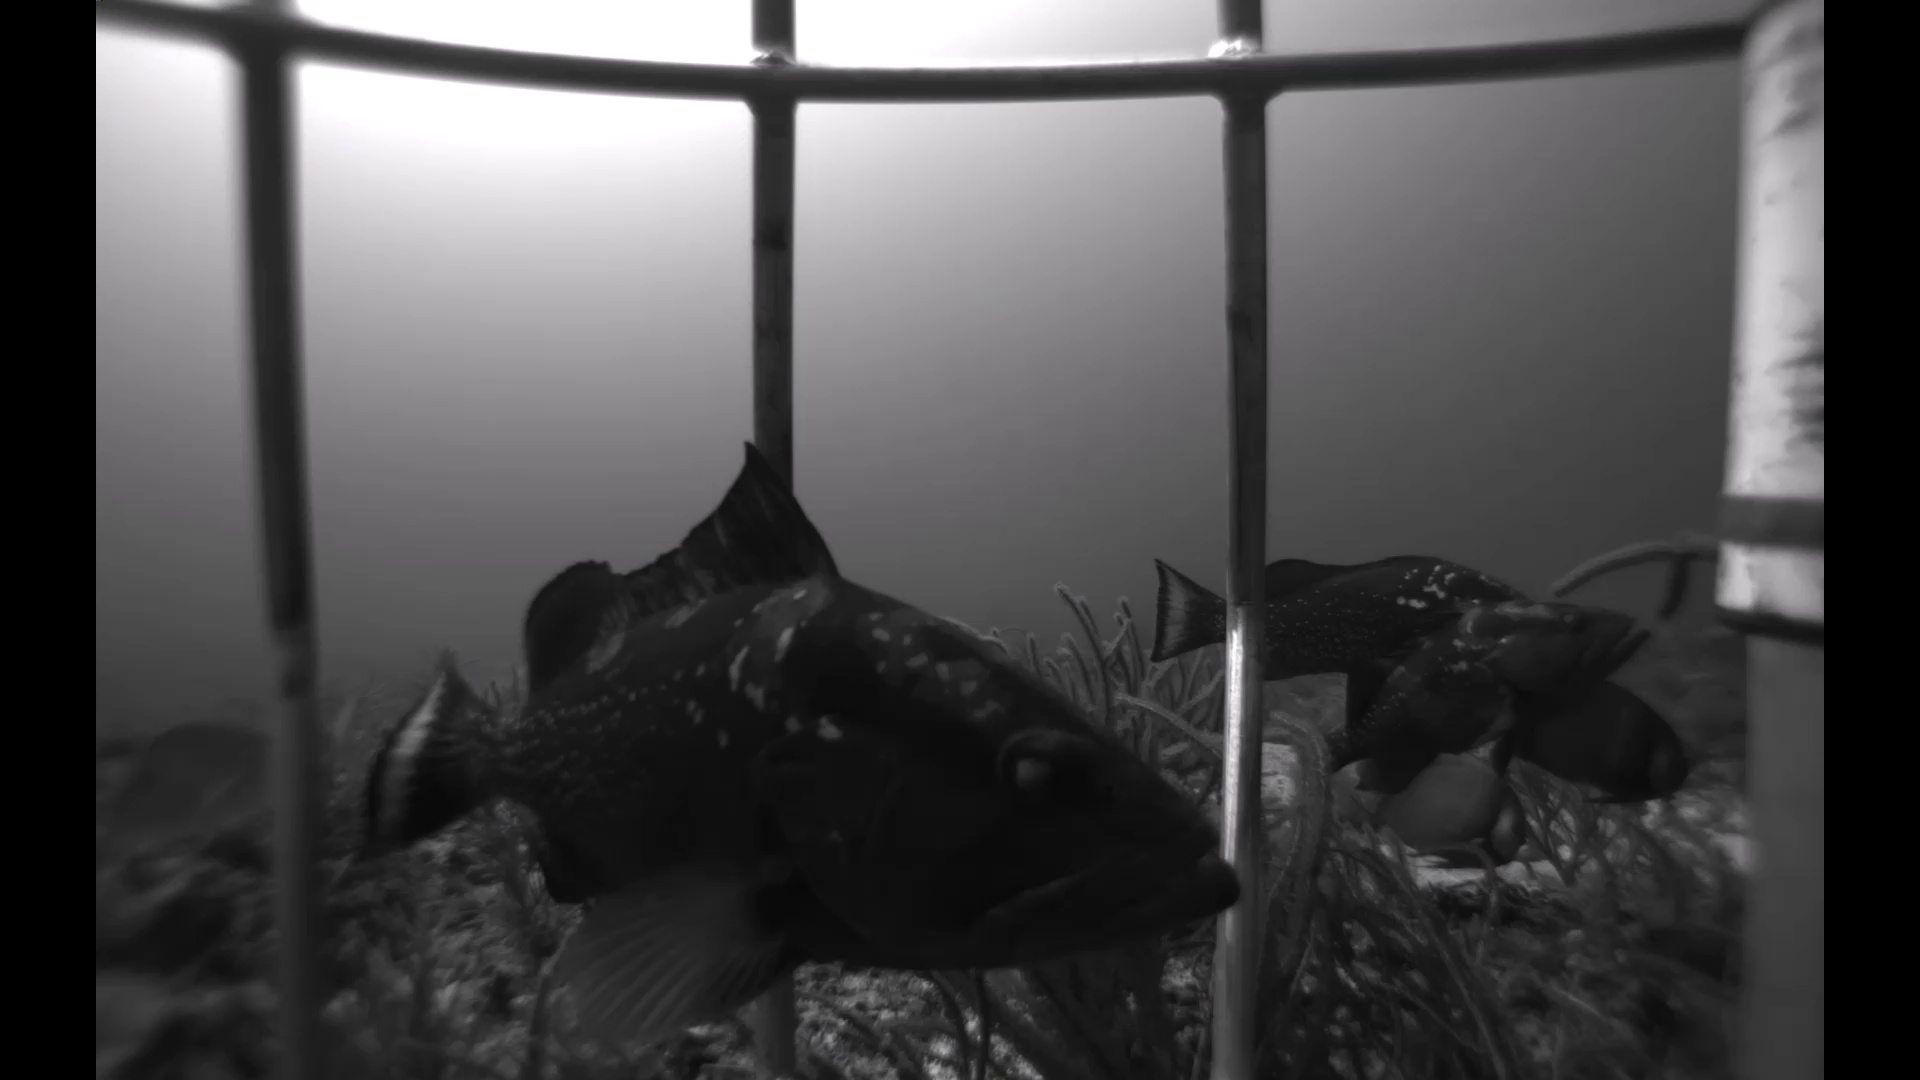CALAMUSNODOSUS-170210608: (90, 686, 378, 865)
EPINEPHELUSMORIO-170021211: (348, 411, 1236, 1059), (1309, 585, 1664, 793), (1131, 529, 1548, 702)
POMACANTHUSARCUATUS-170290201: (1336, 727, 1544, 874), (1506, 676, 1698, 816)
